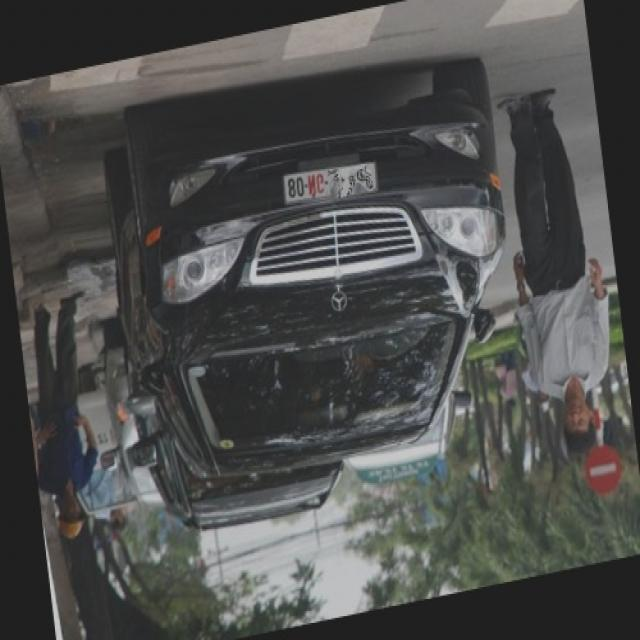bien_ngoai_giao: (282, 164, 386, 203)
